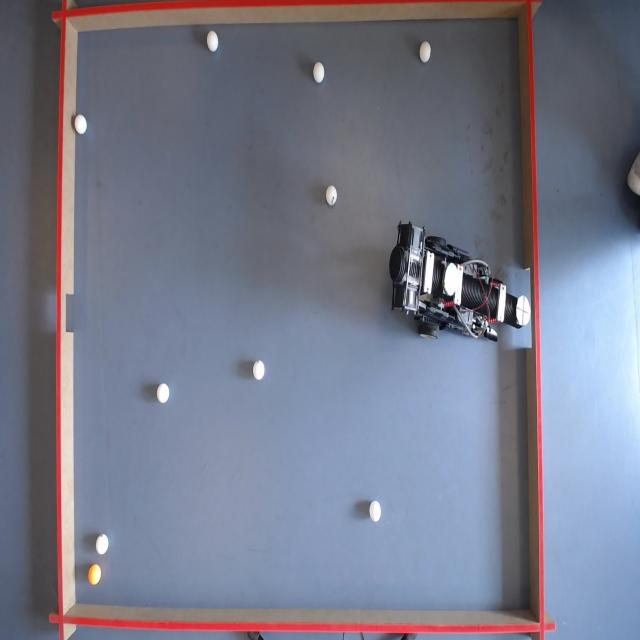orange: (88, 564, 103, 586)
robot: (382, 225, 530, 342)
robot-front: (516, 296, 532, 327)
robot-rear: (444, 266, 460, 297)
white: (368, 500, 382, 522), (252, 360, 266, 381), (158, 383, 172, 404), (96, 534, 110, 555), (74, 115, 88, 136), (313, 62, 326, 84), (207, 31, 220, 52), (420, 41, 432, 63), (325, 185, 337, 204)
